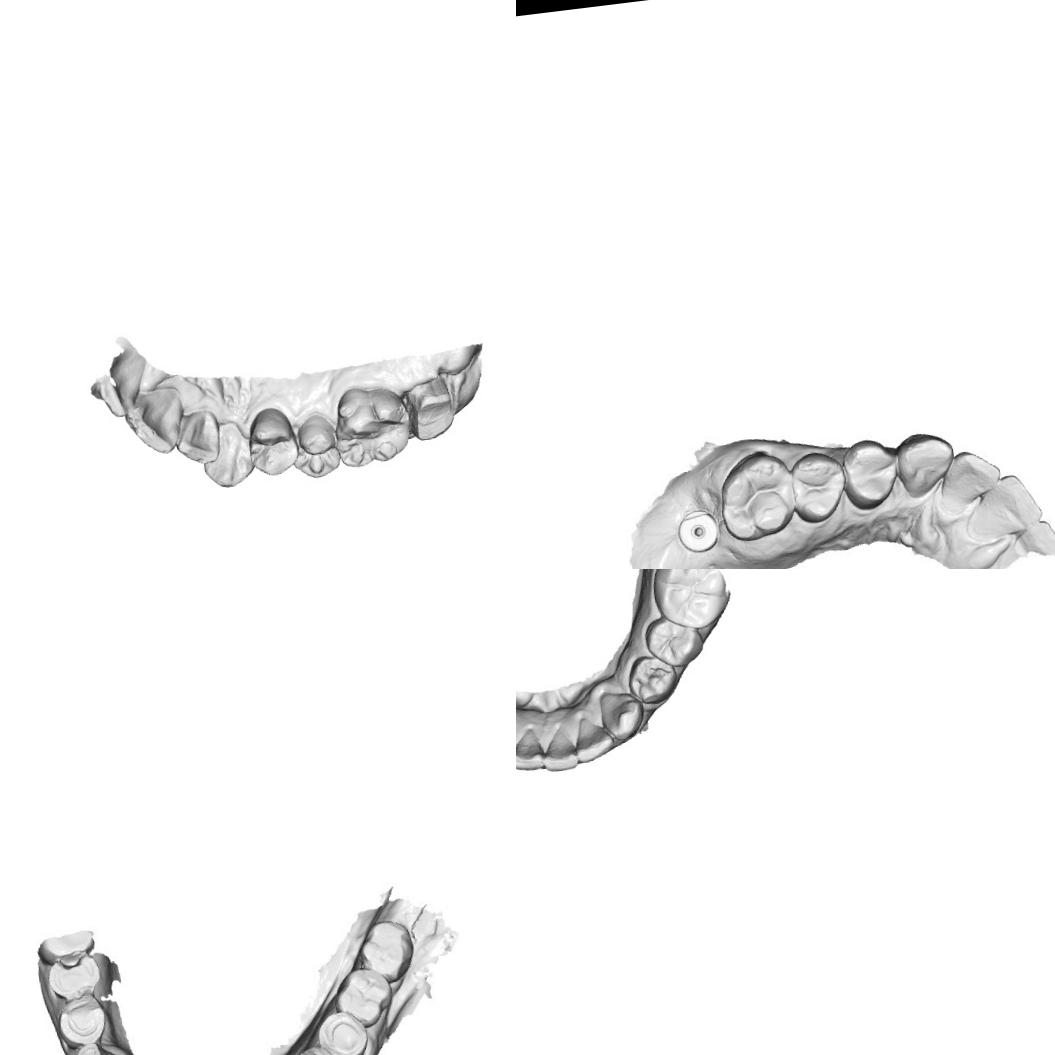canine: (891, 426, 955, 500), (199, 418, 255, 492), (596, 688, 648, 743), (69, 1040, 126, 1055)
crown: (404, 372, 464, 444)
implant: (674, 507, 717, 554)
incisor: (124, 384, 191, 460), (972, 475, 1040, 538), (94, 355, 154, 422), (939, 448, 999, 509), (170, 407, 225, 469), (571, 714, 617, 764), (538, 726, 580, 774), (516, 726, 544, 773)
molar: (714, 450, 802, 546), (328, 380, 418, 470), (647, 569, 734, 634), (330, 960, 393, 1034), (356, 914, 418, 989)
premolar: (839, 437, 902, 514), (786, 449, 848, 527), (241, 402, 302, 480), (288, 409, 344, 482), (642, 612, 706, 671), (44, 948, 106, 1006), (624, 652, 680, 707), (54, 999, 110, 1053), (315, 1007, 372, 1055)
